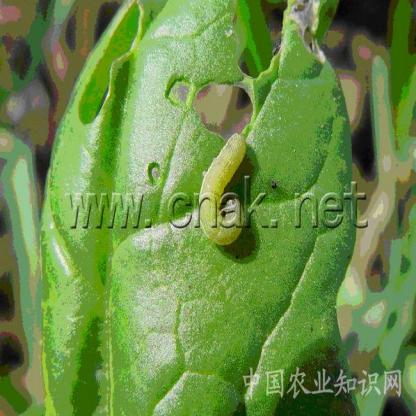armyworm: (198, 129, 253, 245)
